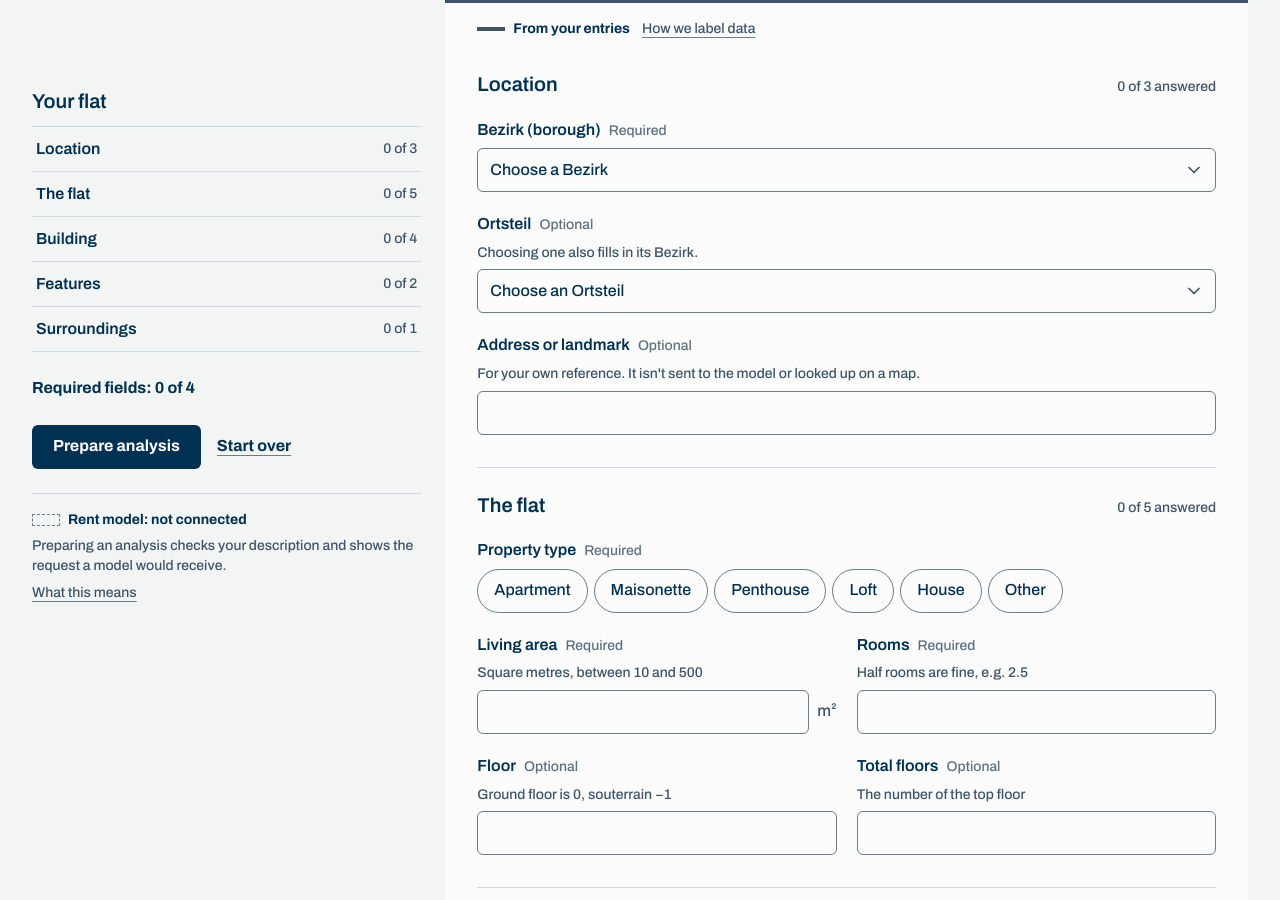
Test: PropertyAnalysisForm › Start over asks first, then clears the form and the draft
The width and height of the screenshot is (1280, 900).
Step 1. Type "65" into the field labelled "Living area Required" → (643, 712), box 477,690 -> 809,734
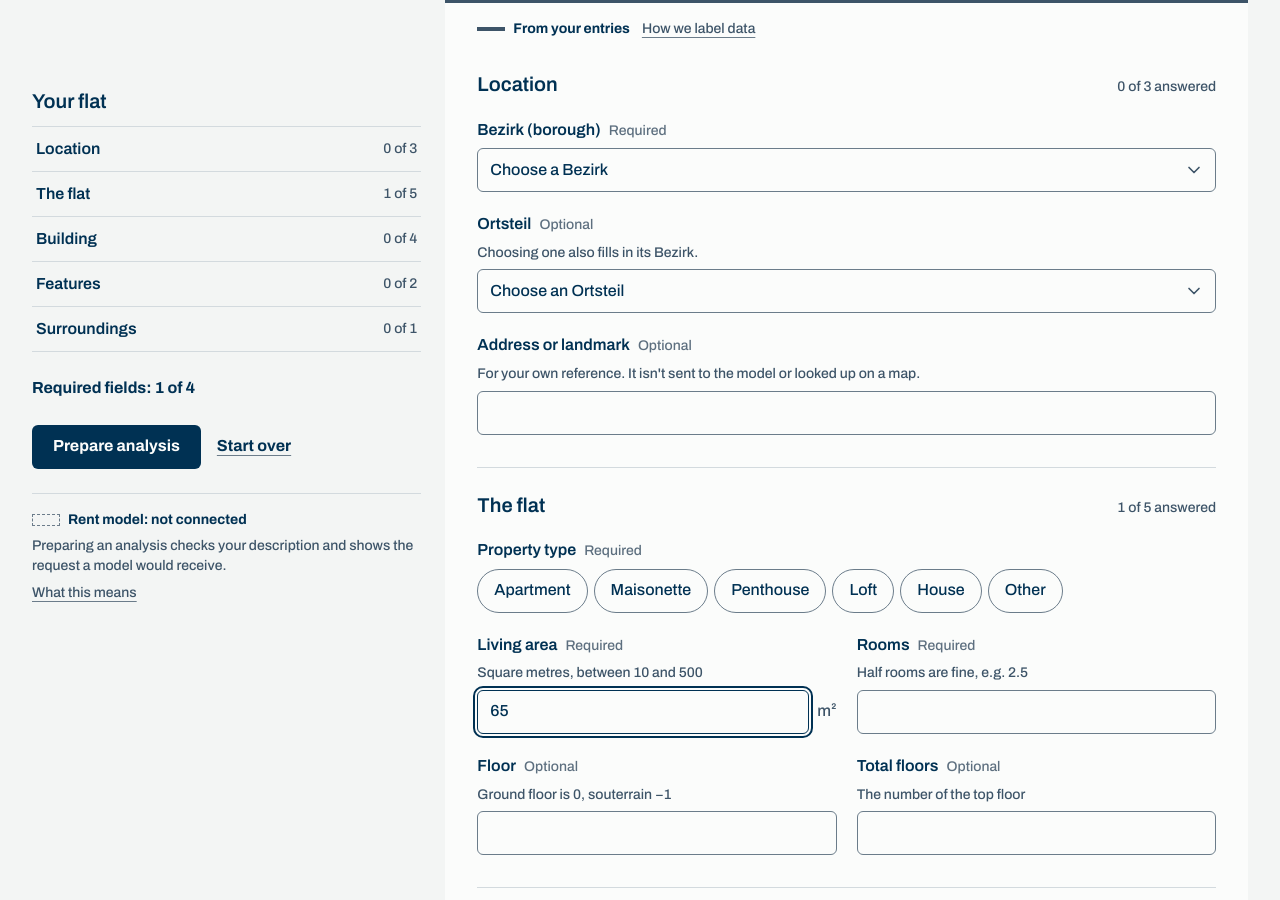
Step 2. Click the button "Start over" → click(254, 447), box 217,434 -> 291,459
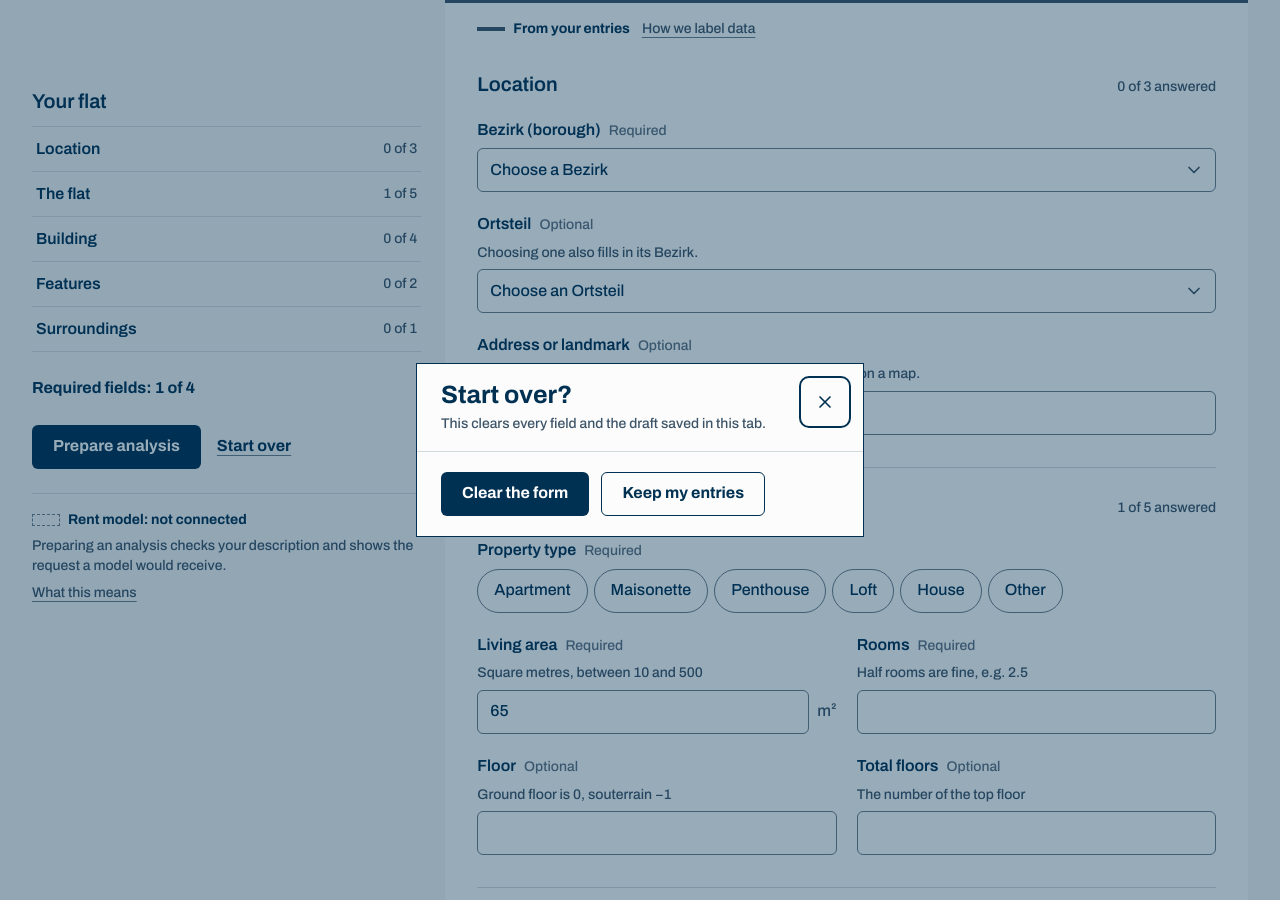
Step 3. Click the button "Keep my entries" → click(683, 494), box 601,472 -> 765,516
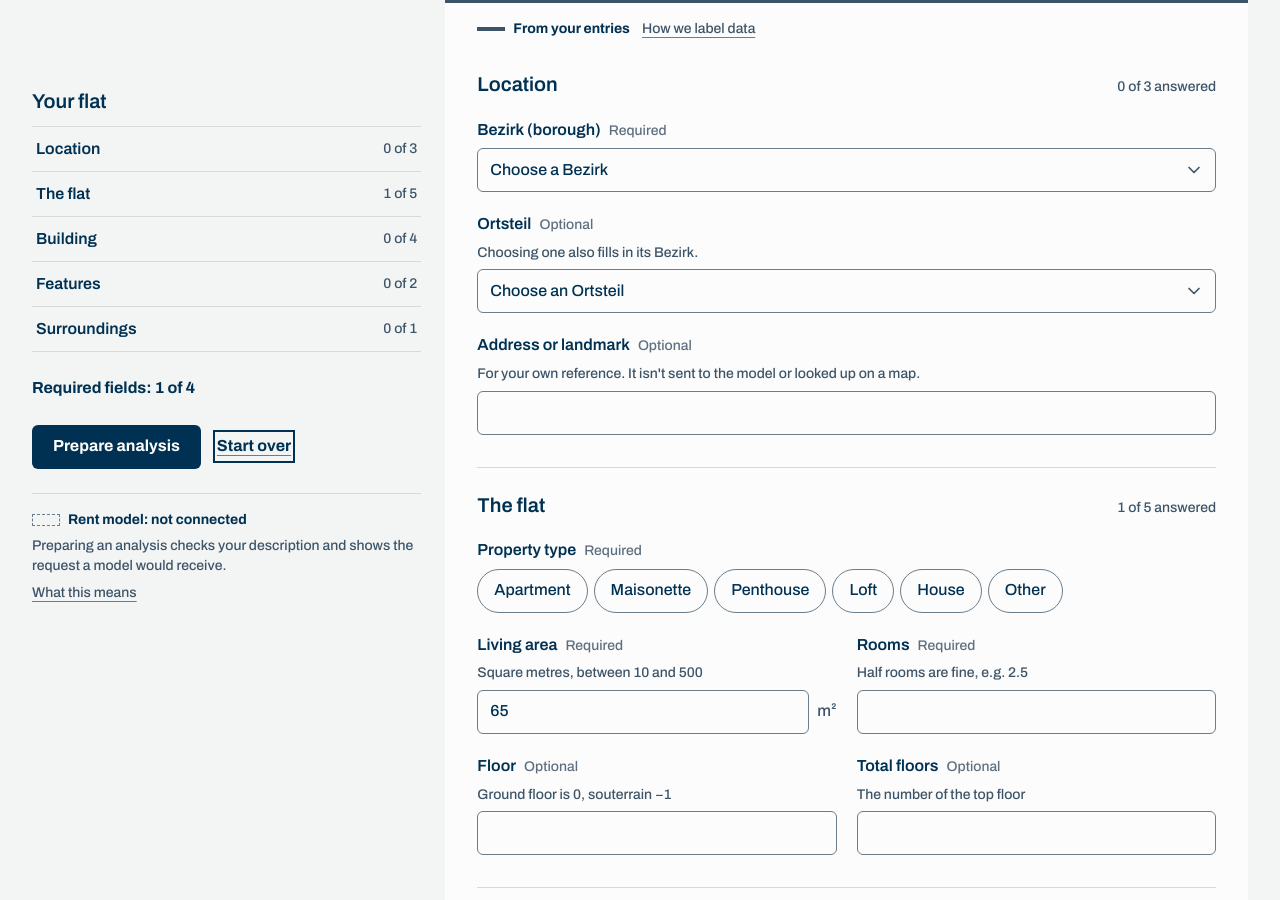
Step 4. Click the button "Start over" → click(254, 447), box 217,434 -> 291,459
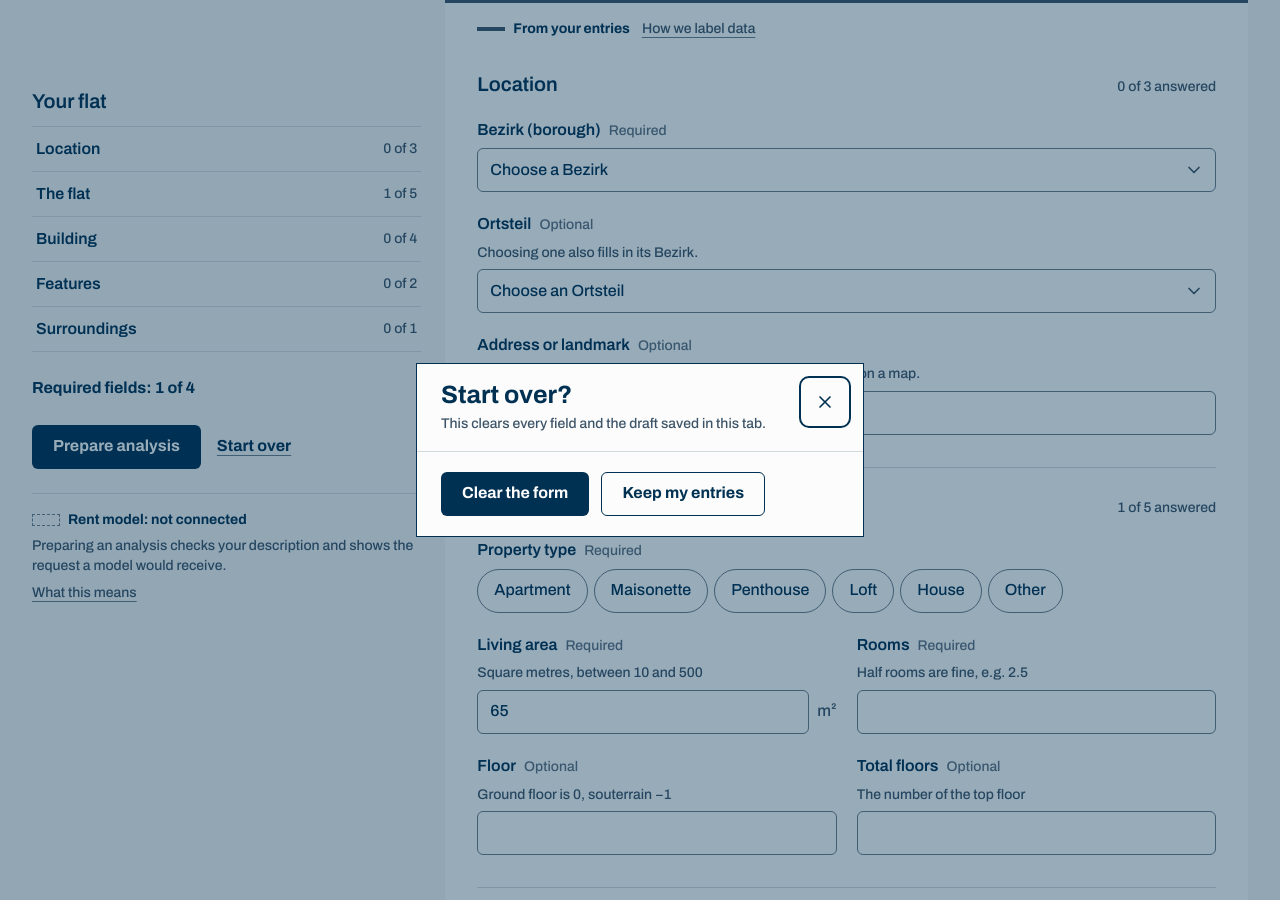
Step 5. Click the button "Clear the form" → click(515, 494), box 441,472 -> 589,516
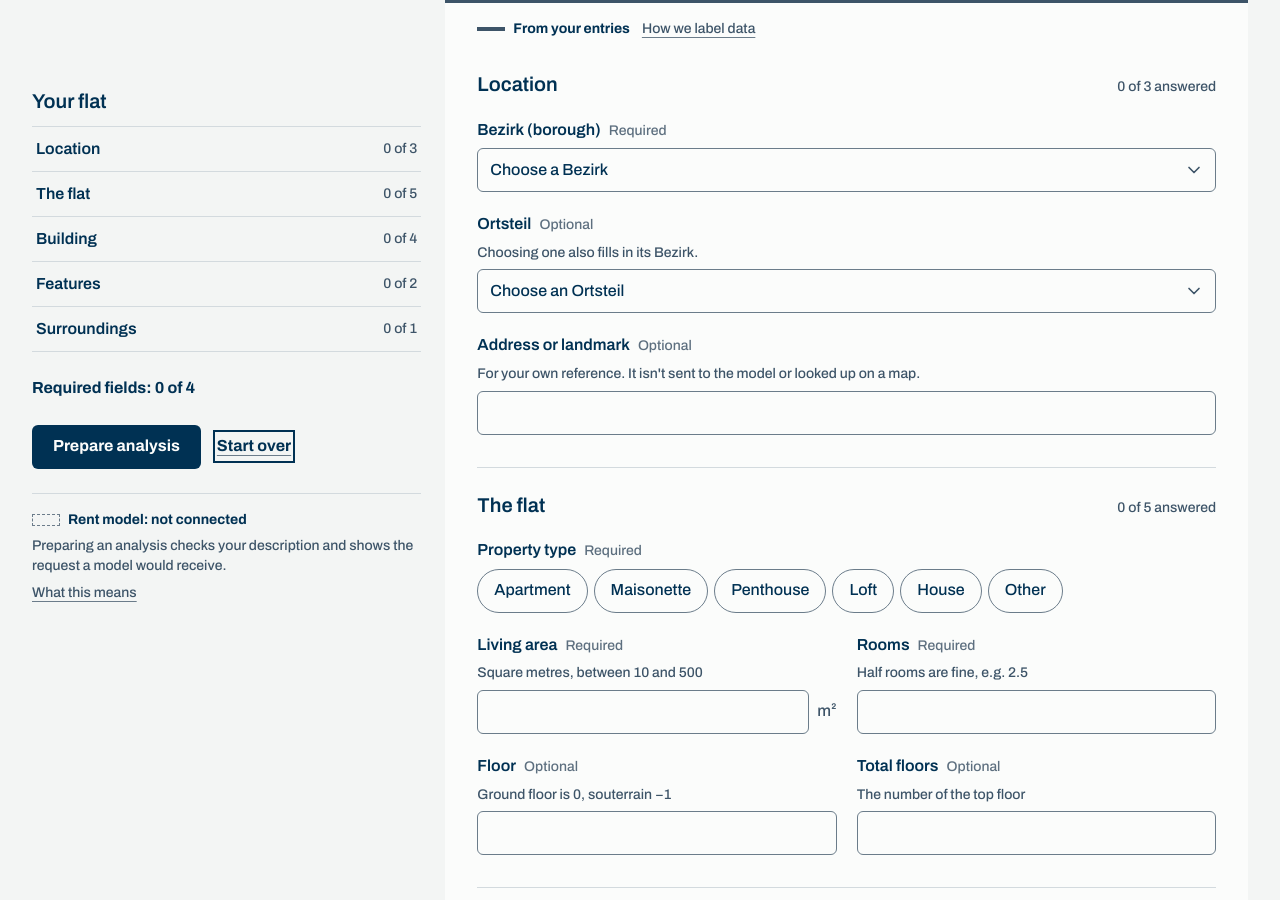
Check: the field labelled "Living area Required" is empty, box 477,690 -> 809,734
